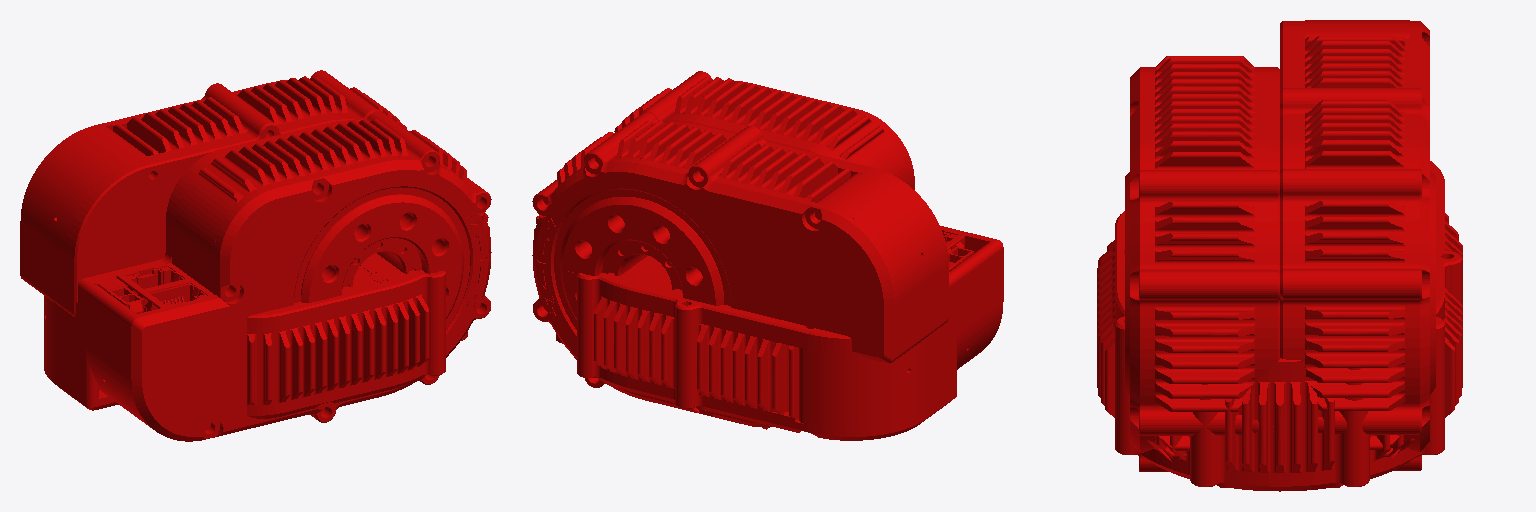
robot.urdf — arm_demo:
<?xml version="1.0" ?>
<!-- =================================================================================== -->
<!-- |    This document was autogenerated by xacro from x_demo.xacro                   | -->
<!-- |    EDITING THIS FILE BY HAND IS NOT RECOMMENDED                                 | -->
<!-- =================================================================================== -->
<robot name="arm_demo" xmlns:xacro="http://www.ros.org/wiki/xacro">
  <!-- *************************** XACRO MACROS *************************** -->
  <!-- ************************* ROBOT DEFINITION ************************* -->
  <link name="world"/>
  <joint name="world_joint" type="fixed">
    <origin rpy="0 0 0" xyz="0 0 0"/>
    <parent link="world"/>
    <child link="base"/>
  </joint>
  <!-- just for visualization: base post -->
  <link name="base">
    <visual>
      <origin rpy="0 0 0" xyz=".125 0 -.0254"/>
      <geometry>
        <box size="0.25 0.5 0.0508"/>
      </geometry>
      <material name="silver">
        <color rgba="0.6 0.6 0.6 1"/>
      </material>
    </visual>
    <collision>
      <origin rpy="0 0 0" xyz=".125 0 -.0254"/>
      <geometry>
        <box size="0.25 0.5 0.0508"/>
      </geometry>
    </collision>
    <inertial>
      <origin rpy="0 0 0" xyz=".125 0 -.0254"/>
      <mass value="1.0"/>
      <inertia ixx="1.0" ixy="0.0" ixz="0.0" iyy="1.0" iyz="0.0" izz="1.0"/>
    </inertial>
  </link>
  <joint name="base_base" type="fixed">
    <parent link="base"/>
    <child link="HEBI/base/INPUT_INTERFACE"/>
    <origin rpy="0 0 0" xyz="0 0 0"/>
  </joint>
  <link name="HEBI/base/INPUT_INTERFACE">
    <visual>
      <origin rpy="3.14157 0 0" xyz="0 0 0.0155"/>
      <geometry>
        <mesh filename="package://hebiros_description/meshes/x5.stl"/>
      </geometry>
      <material name="red">
        <color rgba=".82 0.06 0.06 1"/>
      </material>
    </visual>
    <collision>
      <origin rpy="3.14157 0 0" xyz="0 0 0.0155"/>
      <geometry>
        <mesh filename="package://hebiros_description/meshes/x5.stl"/>
      </geometry>
    </collision>
    <inertial>
      <origin rpy="3.14157 0 0" xyz="0 0 0.0155"/>
      <mass value="0.335"/>
      <inertia ixx="1.0" ixy="0.0" ixz="0.0" iyy="1.0" iyz="0.0" izz="1.0"/>
    </inertial>
  </link>
  <joint name="HEBI/base/X5-4" type="revolute">
    <parent link="HEBI/base/INPUT_INTERFACE"/>
    <child link="shoulder_bracket/INPUT_INTERFACE"/>
    <origin rpy="0 0 0" xyz="0 0 0.031"/>
    <axis xyz="0 0 1"/>
    <limit effort="90.0" lower="-10.0" upper="10.0" velocity="2.208932"/>
    <dynamics damping="0.2" friction="0.2"/>
  </joint>
  <transmission name="HEBI/base/transmission">
    <type>transmission_interface/SimpleTransmission</type>
    <joint name="HEBI/base">
      <hardwareInterface>hardware_interface/EffortJointInterface</hardwareInterface>
    </joint>
    <actuator name="HEBI/base/actuator">
      <hardwareInterface>hardware_interface/EffortJointInterface</hardwareInterface>
      <mechanicalReduction>1</mechanicalReduction>
    </actuator>
  </transmission>
  <gazebo reference="HEBI/base/INPUT_INTERFACE">
    <selfCollide>true</selfCollide>
  </gazebo>
  <link name="shoulder_bracket/INPUT_INTERFACE">
    <visual>
      <origin rpy="1.57075 0 1.57075" xyz="0 0 0"/>
      <geometry>
        <mesh filename="package://hebiros_description/meshes/x_wrist.stl"/>
      </geometry>
      <material name="silver">
        <color rgba="0.6 0.6 0.6 1"/>
      </material>
    </visual>
    <collision>
      <origin rpy="1.57075 0 1.57075" xyz="0 0 0"/>
      <geometry>
        <mesh filename="package://hebiros_description/meshes/x_wrist.stl"/>
      </geometry>
    </collision>
    <inertial>
      <origin rpy="1.57075 0 1.57075" xyz="0 0 0"/>
      <mass value="0.1"/>
      <inertia ixx="1.0" ixy="0.0" ixz="0.0" iyy="1.0" iyz="0.0" izz="1.0"/>
    </inertial>
  </link>
  <joint name="shoulder_bracket/OUTPUT_INTERFACE" type="fixed">
    <parent link="shoulder_bracket/INPUT_INTERFACE"/>
    <child link="HEBI/shoulder/INPUT_INTERFACE"/>
    <origin rpy="-1.57075 0 0" xyz="0 .04235 .04015"/>
  </joint>
  <gazebo reference="shoulder_bracket/INPUT_INTERFACE">
    <selfCollide>true</selfCollide>
  </gazebo>
  <link name="HEBI/shoulder/INPUT_INTERFACE">
    <visual>
      <origin rpy="3.14157 0 0" xyz="0 0 0.0155"/>
      <geometry>
        <mesh filename="package://hebiros_description/meshes/x5.stl"/>
      </geometry>
      <material name="red">
        <color rgba=".82 0.06 0.06 1"/>
      </material>
    </visual>
    <collision>
      <origin rpy="3.14157 0 0" xyz="0 0 0.0155"/>
      <geometry>
        <mesh filename="package://hebiros_description/meshes/x5.stl"/>
      </geometry>
    </collision>
    <inertial>
      <origin rpy="3.14157 0 0" xyz="0 0 0.0155"/>
      <mass value="0.335"/>
      <inertia ixx="1.0" ixy="0.0" ixz="0.0" iyy="1.0" iyz="0.0" izz="1.0"/>
    </inertial>
  </link>
  <joint name="HEBI/shoulder/X5-4" type="revolute">
    <parent link="HEBI/shoulder/INPUT_INTERFACE"/>
    <child link="shoulder_elbow/INPUT_INTERFACE"/>
    <origin rpy="0 0 0" xyz="0 0 0.031"/>
    <axis xyz="0 0 1"/>
    <limit effort="90.0" lower="-10.0" upper="10.0" velocity="2.208932"/>
    <dynamics damping="0.2" friction="0.2"/>
  </joint>
  <transmission name="HEBI/shoulder/transmission">
    <type>transmission_interface/SimpleTransmission</type>
    <joint name="HEBI/shoulder">
      <hardwareInterface>hardware_interface/EffortJointInterface</hardwareInterface>
    </joint>
    <actuator name="HEBI/shoulder/actuator">
      <hardwareInterface>hardware_interface/EffortJointInterface</hardwareInterface>
      <mechanicalReduction>1</mechanicalReduction>
    </actuator>
  </transmission>
  <gazebo reference="HEBI/shoulder/INPUT_INTERFACE">
    <selfCollide>true</selfCollide>
  </gazebo>
  <link name="shoulder_elbow/INPUT_INTERFACE">
    <visual>
      <origin rpy="0 0 3.14157" xyz="-.04 .03 .0075"/>
      <geometry>
        <mesh filename="package://hebiros_description/meshes/x_output_bracket.stl"/>
      </geometry>
      <material name="black">
        <color rgba="0 0 0 1"/>
      </material>
    </visual>
    <visual>
      <origin rpy="0 1.57075 0" xyz="-0.1904 0 .016075"/>
      <geometry>
        <cylinder length="0.33" radius=".015875"/>
      </geometry>
      <material name="silver">
        <color rgba="0.6 0.6 0.6 1"/>
      </material>
    </visual>
    <visual>
      <origin rpy="1.57075 0 -1.57075" xyz="-0.3554 -.075 -.0125"/>
      <geometry>
        <mesh filename="package://hebiros_description/meshes/x_mounting_bracket.stl"/>
      </geometry>
      <material name="black">
        <color rgba="0 0 0 1"/>
      </material>
    </visual>
    <collision>
      <origin rpy="0 0 3.14157" xyz="-.04 .03 .0075"/>
      <geometry>
        <mesh filename="package://hebiros_description/meshes/x_output_bracket.stl"/>
      </geometry>
    </collision>
    <collision>
      <origin rpy="0 1.57075 0" xyz="-0.1904 0 .016075"/>
      <geometry>
        <cylinder length="0.33" radius=".015875"/>
      </geometry>
    </collision>
    <collision>
      <origin rpy="1.57075 0 -1.57075" xyz="-0.3554 -.075 -.0125"/>
      <geometry>
        <mesh filename="package://hebiros_description/meshes/x_mounting_bracket.stl"/>
      </geometry>
    </collision>
    <inertial>
      <origin rpy="0 0 3.14157" xyz="-.04 .03 .0075"/>
      <mass value="0.01"/>
      <inertia ixx="1.0" ixy="0.0" ixz="0.0" iyy="1.0" iyz="0.0" izz="1.0"/>
    </inertial>
    <inertial>
      <origin rpy="0 1.57075 0" xyz="-0.1904 0 .016075"/>
      <mass value="0.38"/>
      <inertia ixx="1.0" ixy="0.0" ixz="0.0" iyy="1.0" iyz="0.0" izz="1.0"/>
    </inertial>
    <inertial>
      <origin rpy="1.57075 0 -1.57075" xyz="-0.3554 -.075 -.0125"/>
      <mass value="0.01"/>
      <inertia ixx="1.0" ixy="0.0" ixz="0.0" iyy="1.0" iyz="0.0" izz="1.0"/>
    </inertial>
  </link>
  <joint name="shoulder_elbow/OUTPUT_JOINT" type="fixed">
    <parent link="shoulder_elbow/INPUT_INTERFACE"/>
    <child link="HEBI/elbow/INPUT_INTERFACE"/>
    <origin rpy="3.14157 0 0" xyz="-0.38 0 0"/>
  </joint>
  <gazebo reference="shoulder_elbow/INPUT_INTERFACE">
    <selfCollide>true</selfCollide>
  </gazebo>
  <link name="HEBI/elbow/INPUT_INTERFACE">
    <visual>
      <origin rpy="3.14157 0 0" xyz="0 0 0.0155"/>
      <geometry>
        <mesh filename="package://hebiros_description/meshes/x5.stl"/>
      </geometry>
      <material name="red">
        <color rgba=".82 0.06 0.06 1"/>
      </material>
    </visual>
    <collision>
      <origin rpy="3.14157 0 0" xyz="0 0 0.0155"/>
      <geometry>
        <mesh filename="package://hebiros_description/meshes/x5.stl"/>
      </geometry>
    </collision>
    <inertial>
      <origin rpy="3.14157 0 0" xyz="0 0 0.0155"/>
      <mass value="0.335"/>
      <inertia ixx="1.0" ixy="0.0" ixz="0.0" iyy="1.0" iyz="0.0" izz="1.0"/>
    </inertial>
  </link>
  <joint name="HEBI/elbow/X5-4" type="revolute">
    <parent link="HEBI/elbow/INPUT_INTERFACE"/>
    <child link="elbow_end/INPUT_INTERFACE"/>
    <origin rpy="0 0 0" xyz="0 0 0.031"/>
    <axis xyz="0 0 1"/>
    <limit effort="90.0" lower="-10.0" upper="10.0" velocity="2.208932"/>
    <dynamics damping="0.2" friction="0.2"/>
  </joint>
  <transmission name="HEBI/elbow/transmission">
    <type>transmission_interface/SimpleTransmission</type>
    <joint name="HEBI/elbow">
      <hardwareInterface>hardware_interface/EffortJointInterface</hardwareInterface>
    </joint>
    <actuator name="HEBI/elbow/actuator">
      <hardwareInterface>hardware_interface/EffortJointInterface</hardwareInterface>
      <mechanicalReduction>1</mechanicalReduction>
    </actuator>
  </transmission>
  <gazebo reference="HEBI/elbow/INPUT_INTERFACE">
    <selfCollide>true</selfCollide>
  </gazebo>
  <link name="elbow_end/INPUT_INTERFACE">
    <visual>
      <origin rpy="0 0 3.14157" xyz="-.04 .03 .0075"/>
      <geometry>
        <mesh filename="package://hebiros_description/meshes/x_output_bracket.stl"/>
      </geometry>
      <material name="black">
        <color rgba="0 0 0 1"/>
      </material>
    </visual>
    <visual>
      <origin rpy="0 1.57075 0" xyz="-0.1879 0 .016075"/>
      <geometry>
        <cylinder length="0.325" radius=".015875"/>
      </geometry>
      <material name="silver">
        <color rgba="0.6 0.6 0.6 1"/>
      </material>
    </visual>
    <visual>
      <origin rpy="1.57075 0 -1.57075" xyz="-0.3504 -.075 -.0125"/>
      <geometry>
        <mesh filename="package://hebiros_description/meshes/x_mounting_bracket.stl"/>
      </geometry>
      <material name="black">
        <color rgba="0 0 0 1"/>
      </material>
    </visual>
    <collision>
      <origin rpy="0 0 3.14157" xyz="-.04 .03 .0075"/>
      <geometry>
        <mesh filename="package://hebiros_description/meshes/x_output_bracket.stl"/>
      </geometry>
    </collision>
    <collision>
      <origin rpy="0 1.57075 0" xyz="-0.1879 0 .016075"/>
      <geometry>
        <cylinder length="0.325" radius=".015875"/>
      </geometry>
    </collision>
    <collision>
      <origin rpy="1.57075 0 -1.57075" xyz="-0.3504 -.075 -.0125"/>
      <geometry>
        <mesh filename="package://hebiros_description/meshes/x_mounting_bracket.stl"/>
      </geometry>
    </collision>
    <inertial>
      <origin rpy="0 0 3.14157" xyz="-.04 .03 .0075"/>
      <mass value="0.01"/>
      <inertia ixx="1.0" ixy="0.0" ixz="0.0" iyy="1.0" iyz="0.0" izz="1.0"/>
    </inertial>
    <inertial>
      <origin rpy="0 1.57075 0" xyz="-0.1879 0 .016075"/>
      <mass value="0.375"/>
      <inertia ixx="1.0" ixy="0.0" ixz="0.0" iyy="1.0" iyz="0.0" izz="1.0"/>
    </inertial>
    <inertial>
      <origin rpy="1.57075 0 -1.57075" xyz="-0.3504 -.075 -.0125"/>
      <mass value="0.01"/>
      <inertia ixx="1.0" ixy="0.0" ixz="0.0" iyy="1.0" iyz="0.0" izz="1.0"/>
    </inertial>
  </link>
  <joint name="elbow_end/OUTPUT_JOINT" type="fixed">
    <parent link="elbow_end/INPUT_INTERFACE"/>
    <child link="end_effector/INPUT_INTERFACE"/>
    <origin rpy="3.14157 0 0" xyz="-0.375 0 0"/>
  </joint>
  <gazebo reference="elbow_end/INPUT_INTERFACE">
    <selfCollide>true</selfCollide>
  </gazebo>
  <!-- end link -->
  <link name="end_effector/INPUT_INTERFACE">
  </link>
  <gazebo reference="base">
    <selfCollide>true</selfCollide>
  </gazebo>
  <gazebo>
    <plugin filename="libhebiros_gazebo_plugin.so" name="hebiros_gazebo_plugin">
    </plugin>
  </gazebo>
</robot>

--- What the picture shows (computed from the rendered views, not written in the file) ---
Views: 3 orthographic renders of the robot side by side, from view 1: azimuth 30°, elevation 25°; view 2: azimuth 150°, elevation 25°; view 3: azimuth 270°, elevation 25°.
Model arm_demo with 9 links and 8 joints (3 revolute, 5 fixed), rooted at world, posed all joints at 0.
Visible links, largest first — view 1: HEBI/shoulder/INPUT_INTERFACE, HEBI/elbow/INPUT_INTERFACE, HEBI/base/INPUT_INTERFACE; view 2: HEBI/elbow/INPUT_INTERFACE, HEBI/base/INPUT_INTERFACE, HEBI/shoulder/INPUT_INTERFACE; view 3: HEBI/elbow/INPUT_INTERFACE, HEBI/shoulder/INPUT_INTERFACE, HEBI/base/INPUT_INTERFACE.
Link boxes in pixels (bbox=[...]): HEBI/shoulder/INPUT_INTERFACE: bbox=[78, 111, 491, 441]; HEBI/elbow/INPUT_INTERFACE: bbox=[20, 70, 406, 317]; HEBI/base/INPUT_INTERFACE: bbox=[44, 253, 467, 418]; HEBI/elbow/INPUT_INTERFACE: bbox=[532, 113, 948, 429]; HEBI/base/INPUT_INTERFACE: bbox=[556, 256, 956, 440]; HEBI/shoulder/INPUT_INTERFACE: bbox=[614, 71, 1003, 369]; HEBI/elbow/INPUT_INTERFACE: bbox=[1280, 20, 1435, 470]; HEBI/shoulder/INPUT_INTERFACE: bbox=[1125, 56, 1279, 471]; HEBI/base/INPUT_INTERFACE: bbox=[1097, 161, 1462, 491].
Bounding box of the posed robot: 110 × 73 × 73 m (x, y, z).
8 mesh visuals loaded from 4 distinct referenced files (4 binary STL).